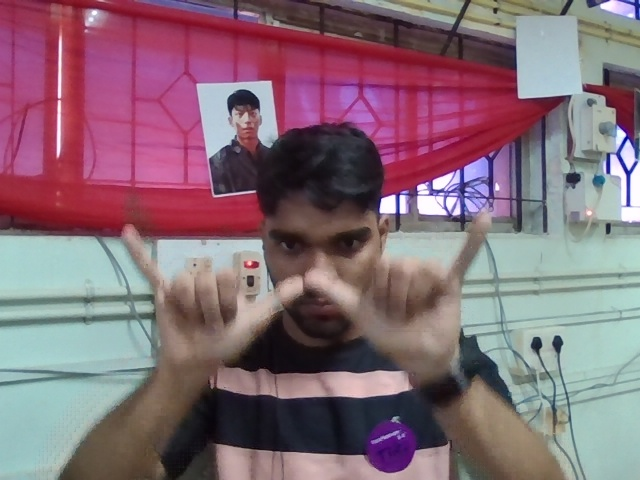play: (111, 200, 514, 396)
